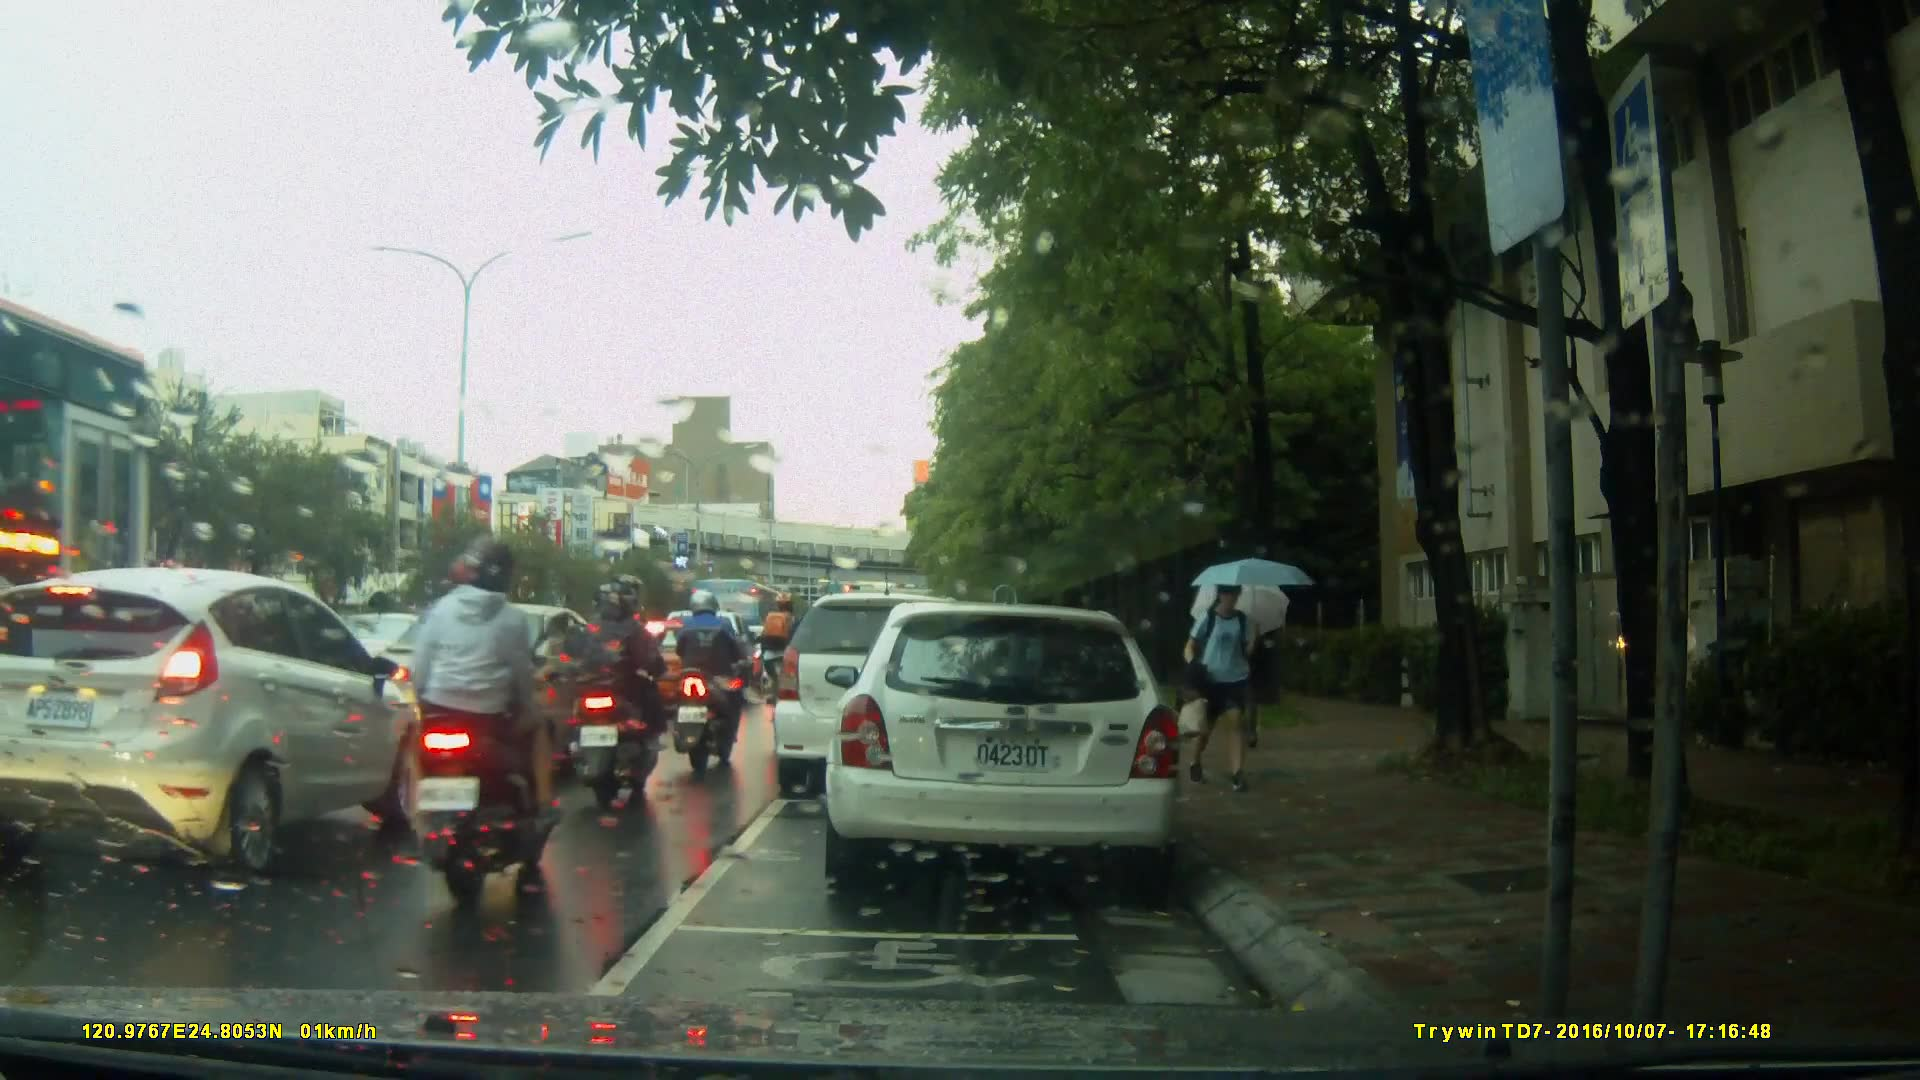pedestrian: (1186, 559, 1266, 804), (1239, 592, 1287, 747)
rider: (398, 522, 575, 910), (594, 583, 680, 805), (676, 586, 751, 769), (766, 589, 811, 756)
vehicle: (2, 566, 430, 884), (835, 594, 1194, 898), (1, 287, 168, 766), (776, 590, 1026, 784), (366, 601, 630, 775), (601, 620, 727, 720), (685, 577, 803, 672)
